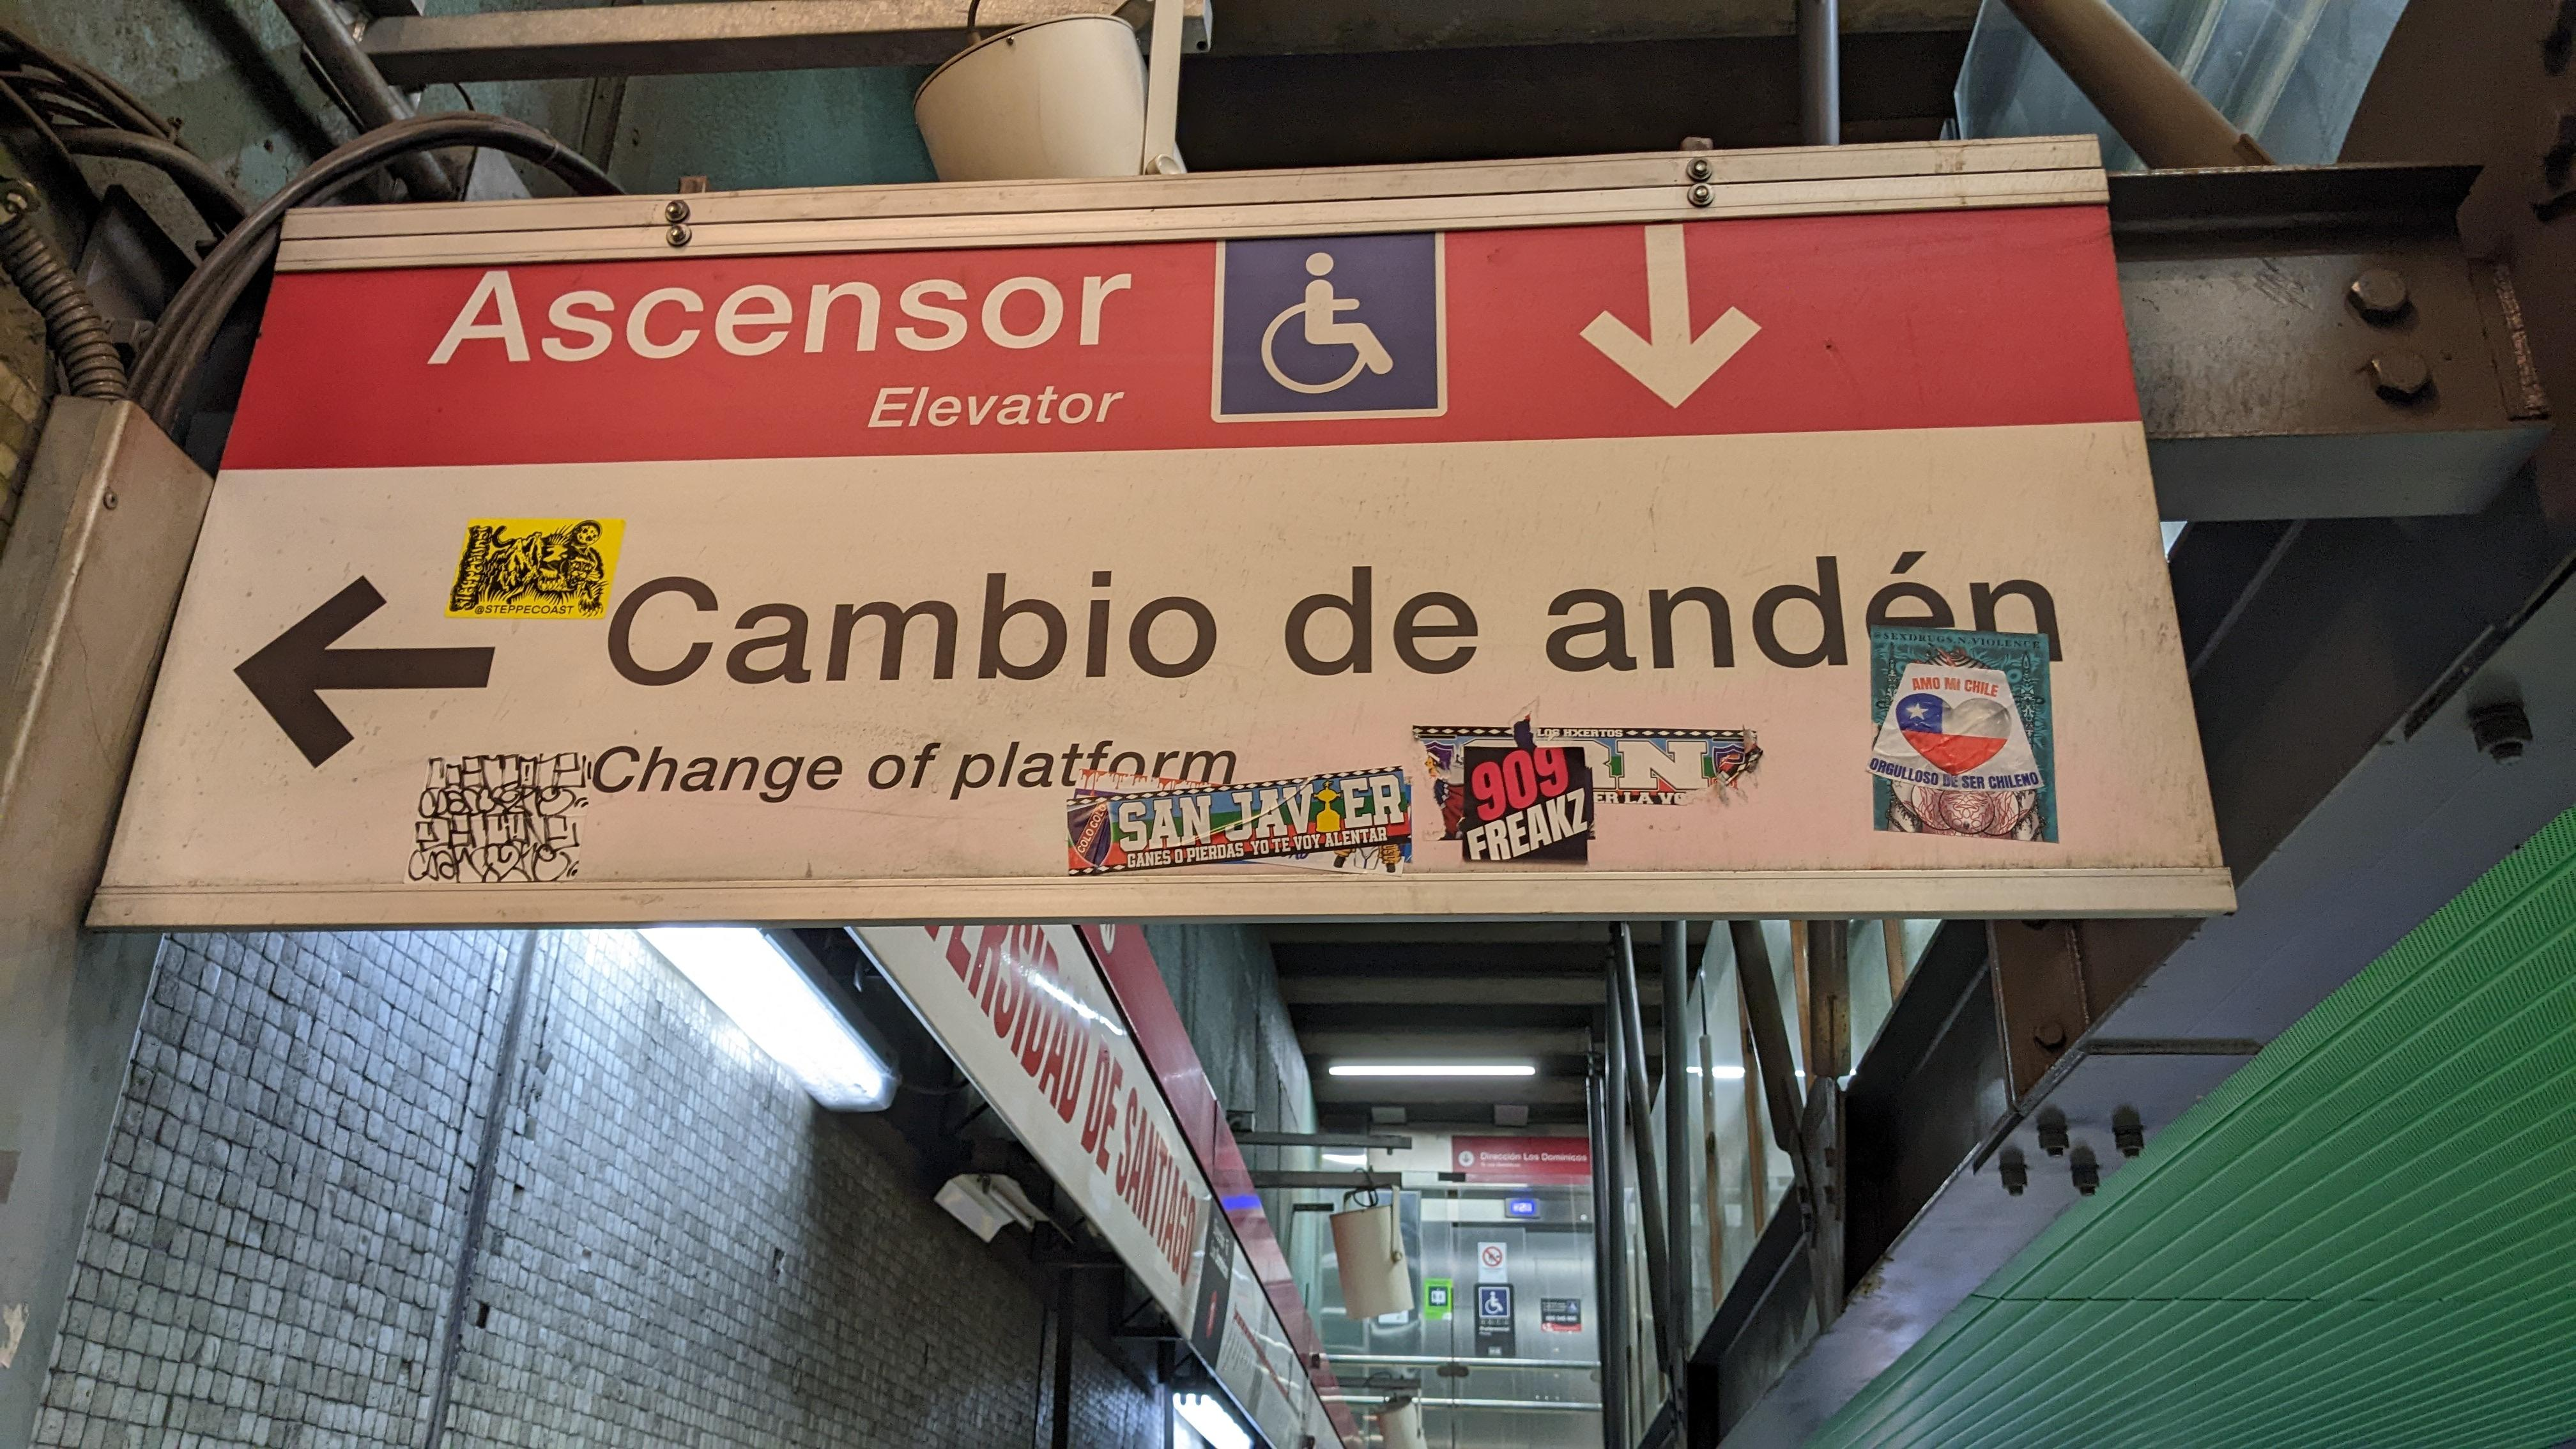down arrow: (1573, 218, 1773, 410)
handicapped symbol: (1253, 248, 1392, 400)
left arrow: (228, 573, 499, 766)
